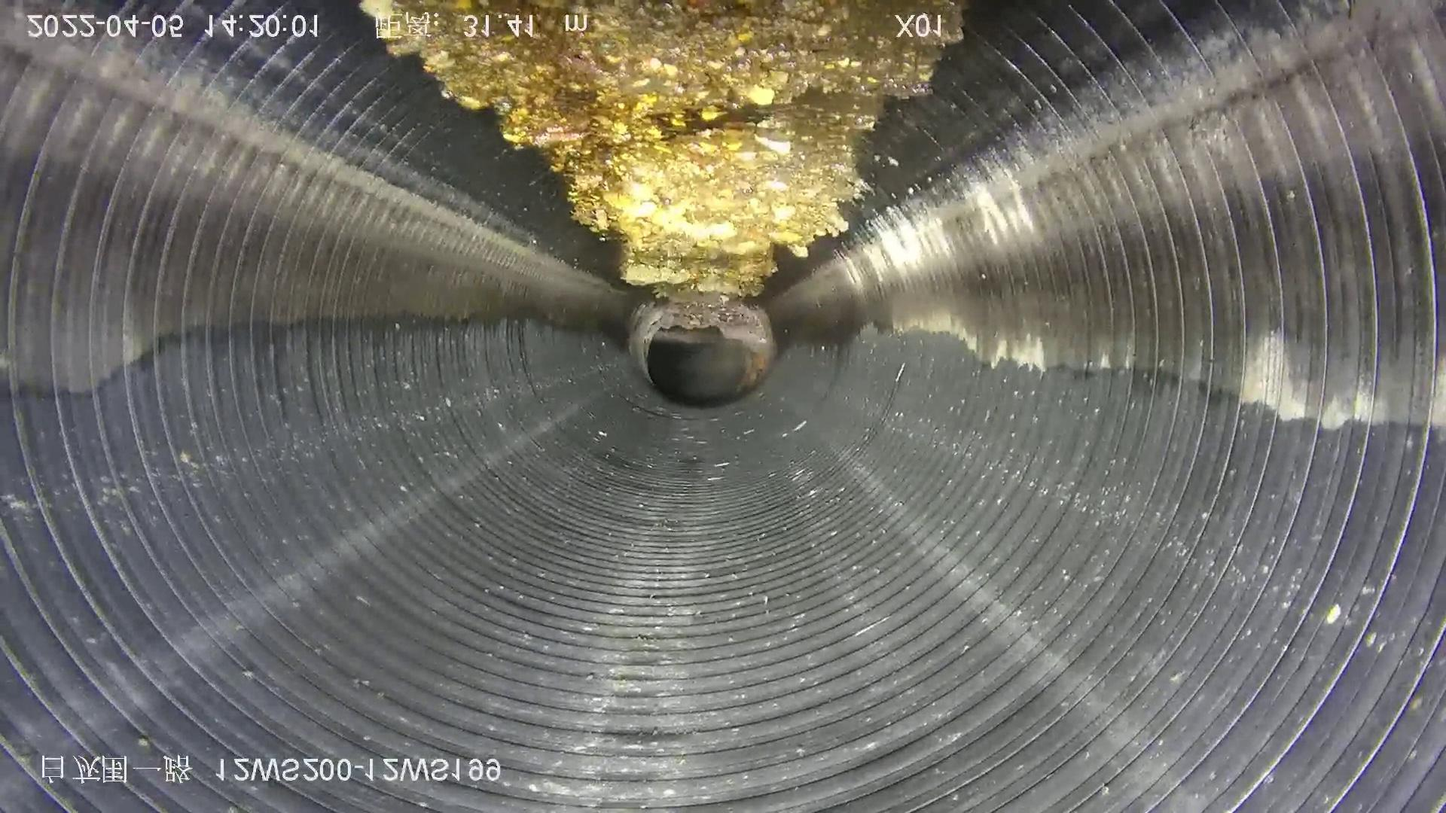CJ: (362, 1, 961, 343)
